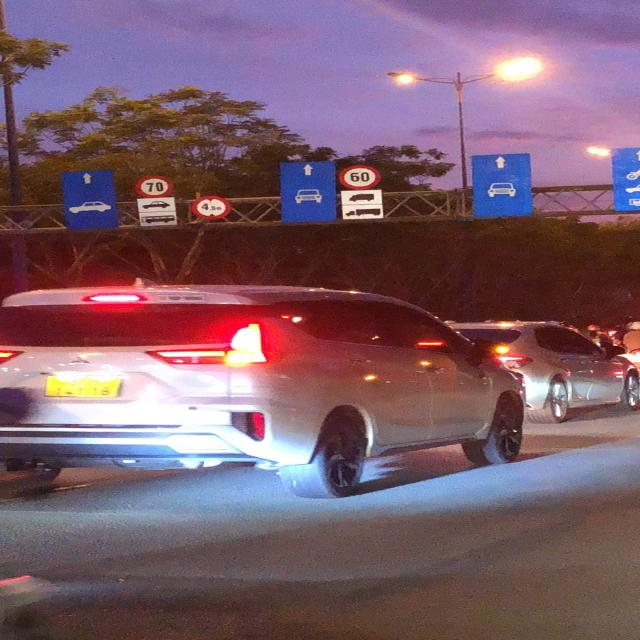Bien bao han che chieu cao: (191, 195, 234, 220)
Bien bao toc do toi da cho phep: (337, 163, 383, 192), (135, 173, 178, 198)
